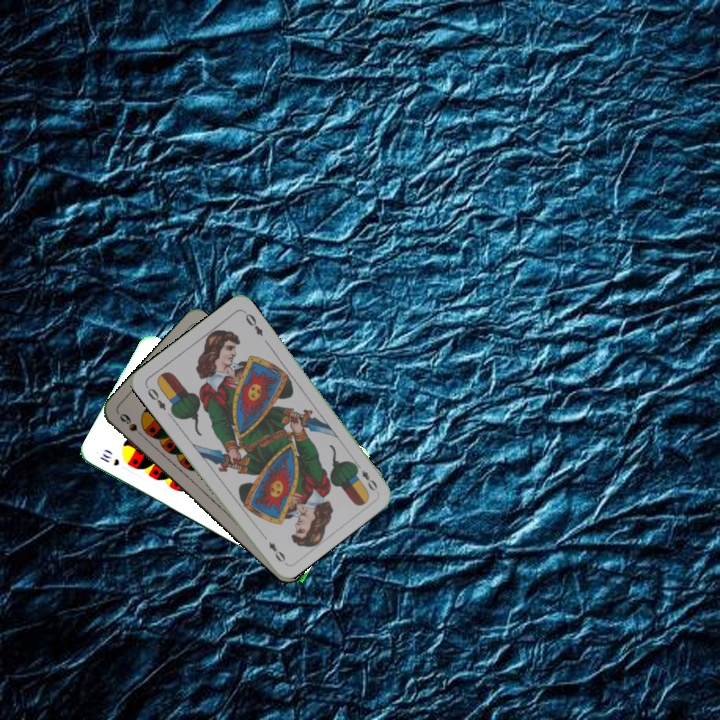EO: (351, 459, 380, 494), (142, 382, 168, 413)
S10: (96, 449, 122, 468)
S9: (115, 409, 148, 441)
